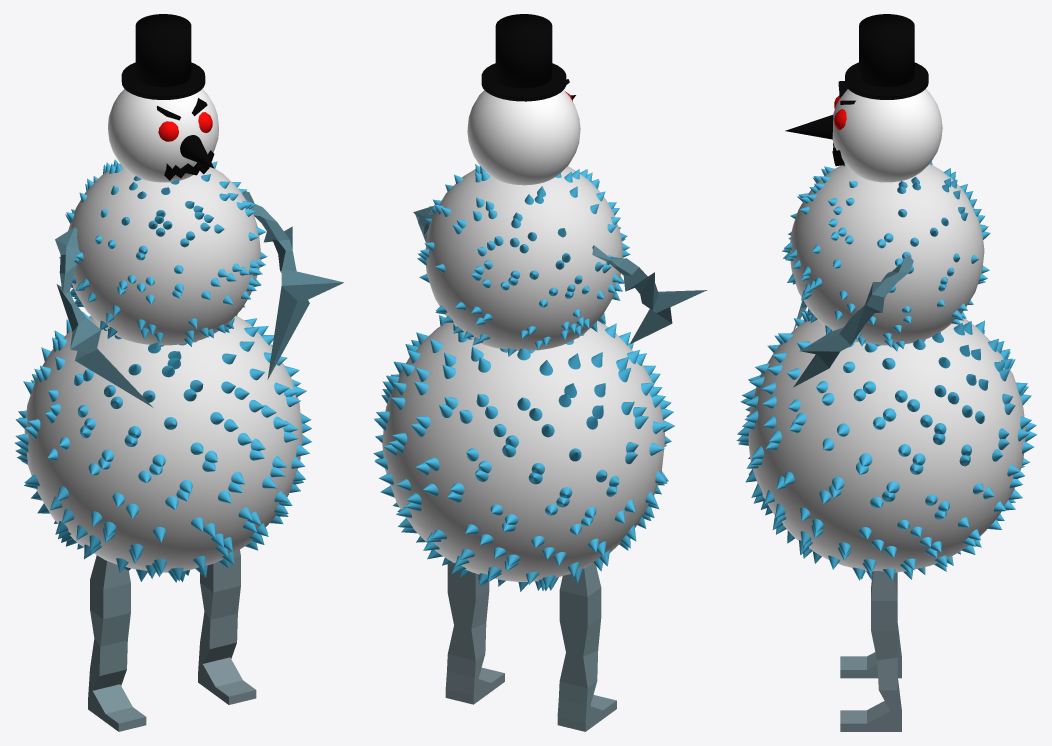
Rendered from mirko_snezak_brez_luci.fbx.
3 views of the same model, side by side, from view 1: azimuth 30°, elevation 25°; view 2: azimuth 150°, elevation 25°; view 3: azimuth 270°, elevation 25° (orthographic).
Parts seen in each view (by area): view 1: Sphere, Sphere.001, Cube, Sphere.002, Cube.003, Cube.004, Cylinder.001, Cylinder, Cone, Mball; view 2: Sphere, Sphere.001, Sphere.002, Cube.003, Cube.004, Cylinder.001, Cube, Cylinder; view 3: Sphere, Sphere.001, Sphere.002, Cube.004, Cylinder.001, Cube, Cylinder, Cube.003, Cone.
Boxes of the visible parts, left/top/right/bottom form: Sphere: left=24, top=315, right=302, bottom=572; Sphere.001: left=68, top=163, right=260, bottom=345; Cube: left=55, top=191, right=343, bottom=407; Sphere.002: left=108, top=89, right=218, bottom=182; Cube.003: left=88, top=555, right=146, bottom=731; Cube.004: left=198, top=549, right=256, bottom=704; Cylinder.001: left=135, top=14, right=191, bottom=87; Cylinder: left=121, top=62, right=205, bottom=99; Cone: left=180, top=135, right=214, bottom=168; Mball: left=158, top=112, right=212, bottom=141; Sphere: left=382, top=321, right=665, bottom=581; Sphere.001: left=425, top=166, right=622, bottom=350; Sphere.002: left=467, top=90, right=580, bottom=185; Cube.003: left=557, top=563, right=616, bottom=731; Cube.004: left=445, top=562, right=504, bottom=704; Cylinder.001: left=495, top=14, right=552, bottom=88; Cube: left=413, top=206, right=707, bottom=344; Cylinder: left=481, top=63, right=566, bottom=101; Sphere: left=748, top=318, right=1025, bottom=572; Sphere.001: left=789, top=164, right=984, bottom=345; Sphere.002: left=832, top=89, right=942, bottom=182; Cube.004: left=840, top=571, right=901, bottom=731; Cylinder.001: left=859, top=14, right=914, bottom=87; Cube: left=793, top=253, right=913, bottom=387; Cylinder: left=845, top=62, right=928, bottom=99; Cube.003: left=840, top=572, right=901, bottom=678; Cone: left=785, top=115, right=833, bottom=139.
Bounding box in the file's own units: 2274 × 5322 × 2161.
